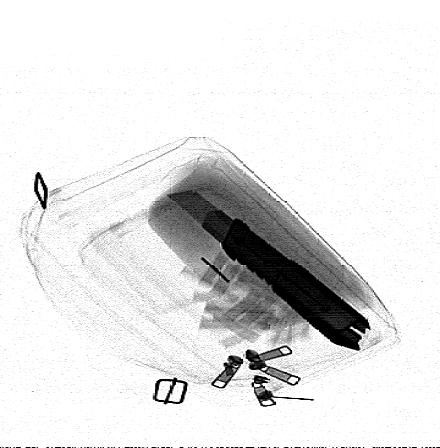Knife: (167, 188, 370, 350)
